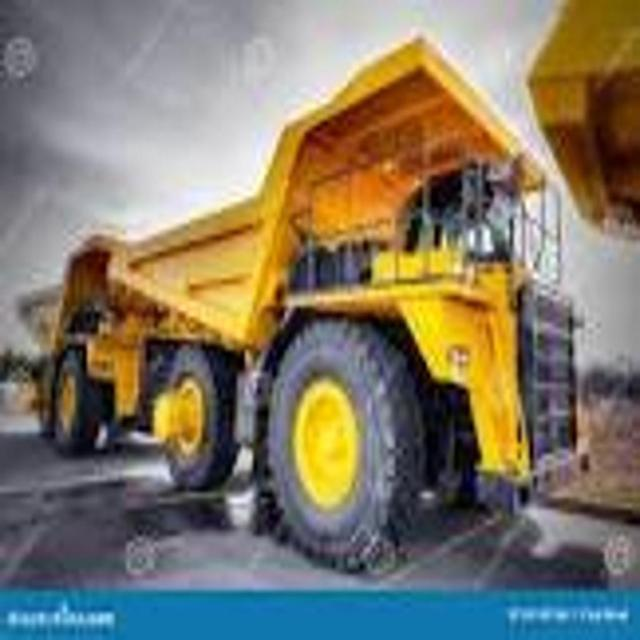dump_truck: (101, 26, 590, 574)
